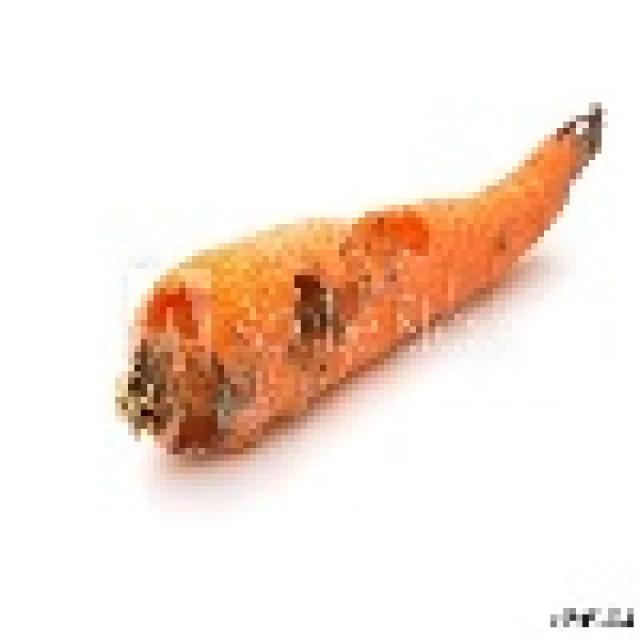Stale_Carrot: (126, 107, 611, 463)
